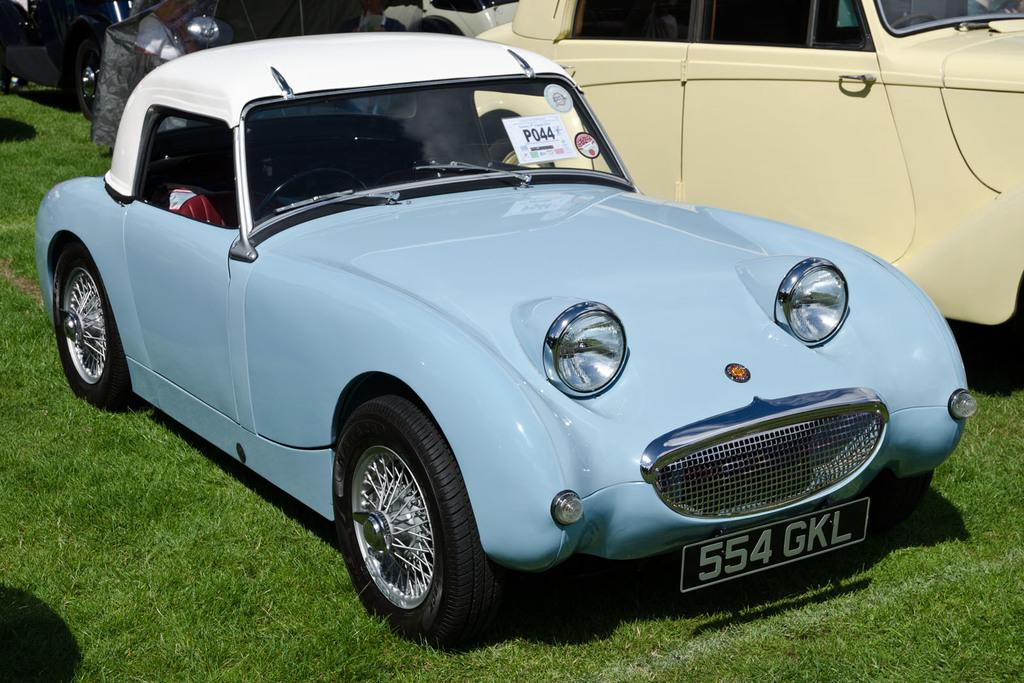Car: (40, 34, 977, 650), (464, 0, 1023, 368), (379, 1, 516, 44)
